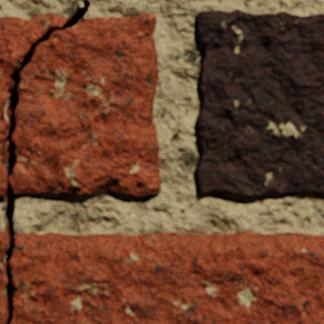brick: (195, 9, 323, 195)
broken_brick: (9, 231, 323, 323), (9, 13, 160, 195), (0, 13, 69, 195), (0, 263, 8, 323), (0, 230, 8, 259)
crack: (0, 0, 89, 323)
